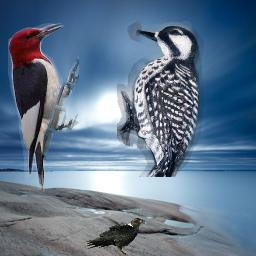Crow: (83, 217, 147, 256)
Woodpecker: (117, 20, 204, 177), (8, 23, 79, 192)
